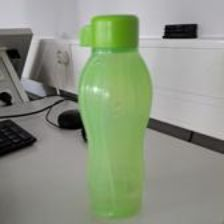bottle: (72, 11, 156, 220)
